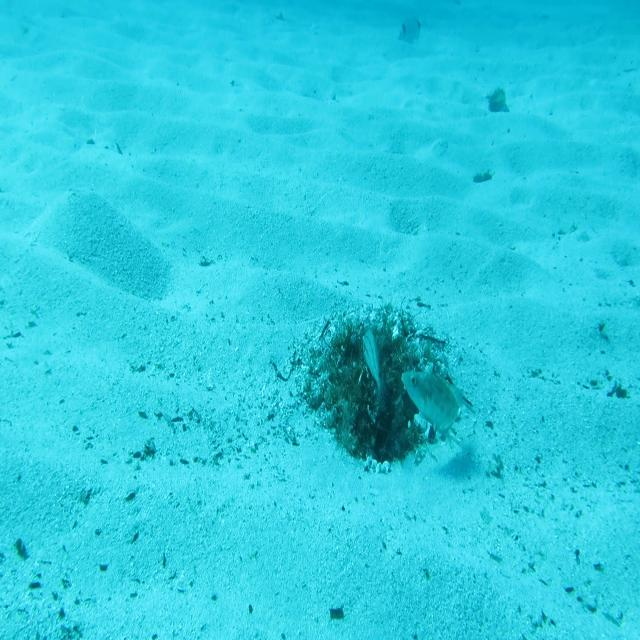BEND: (401, 366, 464, 439)
core_nest: (354, 332, 403, 362)
female: (362, 329, 389, 415)
nest: (290, 300, 460, 486)
other_fish: (395, 14, 426, 47)
vegetation: (485, 84, 510, 114), (472, 165, 492, 187), (329, 602, 344, 622)
